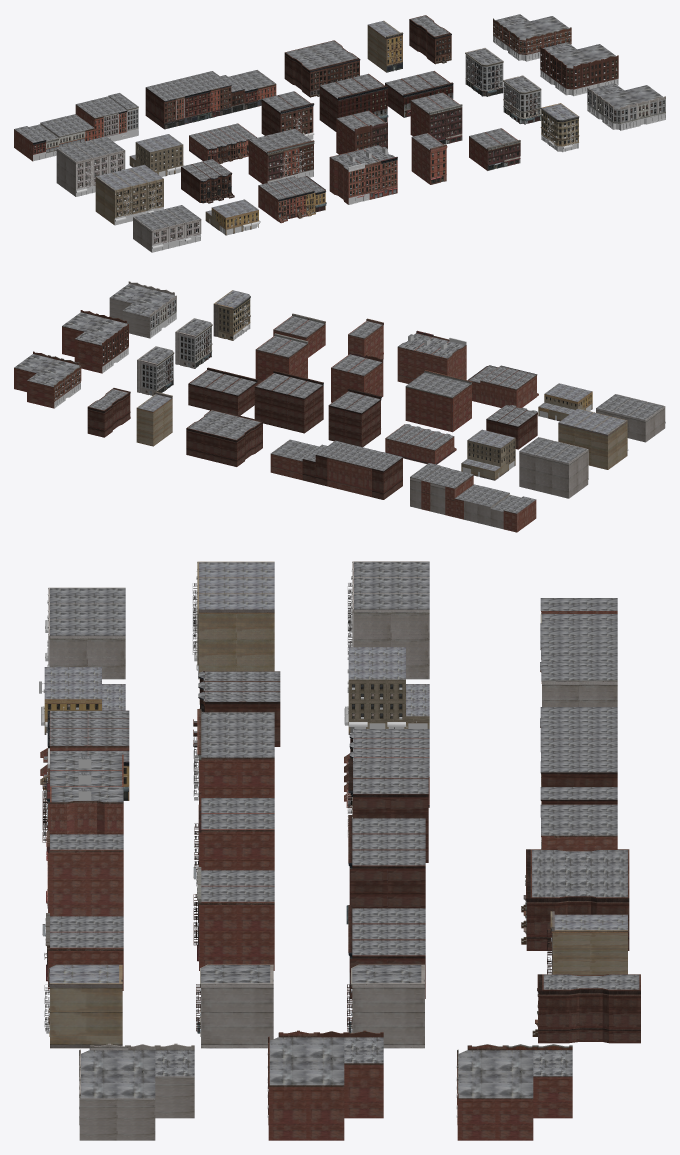
File: Brownstone_Building_Set.fbx
The picture shows the model from 3 angles, top to bottom: view 1: azimuth 30°, elevation 25°; view 2: azimuth 150°, elevation 25°; view 3: azimuth 270°, elevation 25°; orthographic projection. The views are drawn at different scales.
Visible parts, largest first — view 1: Brownstone_FlatFacadeComplex_1, Brownstone_FlatFacadeComplex_2, Brownstone_Lowrise_1_B, Brownstone_FlatFacade_1, Brownstone_FlatFacade_9_C, Brownstone_FlatFacade_2, Brownstone_FlatFacade_9, Brownstone_Harlem_1_B, Brownstone_Lowrise_1_C, Brownstone_FlatFacade_6, Brownstone_Lowrise_1, Brownstone_FlatFacade_9_B (+16 smaller); view 2: Brownstone_FlatFacadeComplex_1, Brownstone_FlatFacadeComplex_2, Brownstone_FlatFacade_6, Brownstone_FlatFacade_9, Brownstone_Harlem_1_B, Brownstone_FlatFacade_2, Brownstone_Lowrise_1_B, Brownstone_FlatFacade_9_C, Brownstone_Lowrise_1, Brownstone_FlatFacade_1, Brownstone_Lowrise_1_C, Brownstone_FlatFacade_3 (+16 smaller); view 3: Brownstone_Lowrise_1_B, Brownstone_FlatFacadeComplex_1, Brownstone_Lowrise_1, Brownstone_Lowrise_1_C, Brownstone_FlatFacade_9_C, Brownstone_FlatFacadeComplex_2, Brownstone_Harlem_1_B, Brownstone_FlatFacade_9, Brownstone_FlatFacade_7, Brownstone_Harlem_1, Brownstone_FlatFacade_6, Brownstone_FlatFacade_2 (+16 smaller).
Part boxes in pixels (x1,y1,x2,y2): Brownstone_FlatFacadeComplex_1: (145, 70, 276, 129); Brownstone_FlatFacadeComplex_2: (14, 93, 138, 161); Brownstone_Lowrise_1_B: (540, 42, 618, 96); Brownstone_FlatFacade_1: (329, 145, 397, 204); Brownstone_FlatFacade_9_C: (95, 164, 163, 225); Brownstone_FlatFacade_2: (248, 128, 314, 183); Brownstone_FlatFacade_9: (56, 136, 125, 196); Brownstone_Harlem_1_B: (284, 40, 360, 97); Brownstone_Lowrise_1_C: (587, 83, 665, 130); Brownstone_FlatFacade_6: (319, 73, 388, 131); Brownstone_Lowrise_1: (493, 14, 571, 61); Brownstone_FlatFacade_9_B: (133, 205, 201, 252); Brownstone_FlatFacadeComplex_1: (270, 439, 403, 499); Brownstone_FlatFacadeComplex_2: (410, 463, 536, 532); Brownstone_FlatFacade_6: (254, 370, 323, 433); Brownstone_FlatFacade_9: (519, 437, 588, 498); Brownstone_Harlem_1_B: (186, 409, 262, 466); Brownstone_FlatFacade_2: (405, 370, 472, 432); Brownstone_Lowrise_1_B: (62, 310, 128, 373); Brownstone_FlatFacade_9_C: (558, 408, 628, 469); Brownstone_Lowrise_1: (14, 351, 81, 408); Brownstone_FlatFacade_1: (397, 330, 466, 383); Brownstone_Lowrise_1_C: (109, 281, 176, 338); Brownstone_FlatFacade_3: (328, 388, 381, 447); Brownstone_Lowrise_1_B: (267, 1030, 383, 1140); Brownstone_FlatFacadeComplex_1: (540, 707, 617, 850); Brownstone_Lowrise_1: (456, 1044, 572, 1140); Brownstone_Lowrise_1_C: (79, 1043, 194, 1140); Brownstone_FlatFacade_9_C: (192, 561, 274, 679); Brownstone_FlatFacadeComplex_2: (540, 598, 617, 706); Brownstone_Harlem_1_B: (521, 849, 629, 950); Brownstone_FlatFacade_9: (347, 561, 429, 679); Brownstone_FlatFacade_7: (193, 867, 274, 970); Brownstone_Harlem_1: (532, 974, 640, 1043); Brownstone_FlatFacade_6: (346, 815, 425, 924); Brownstone_FlatFacade_2: (193, 709, 274, 800).
Size of the model in its own units: 319 by 22.79 by 159.
